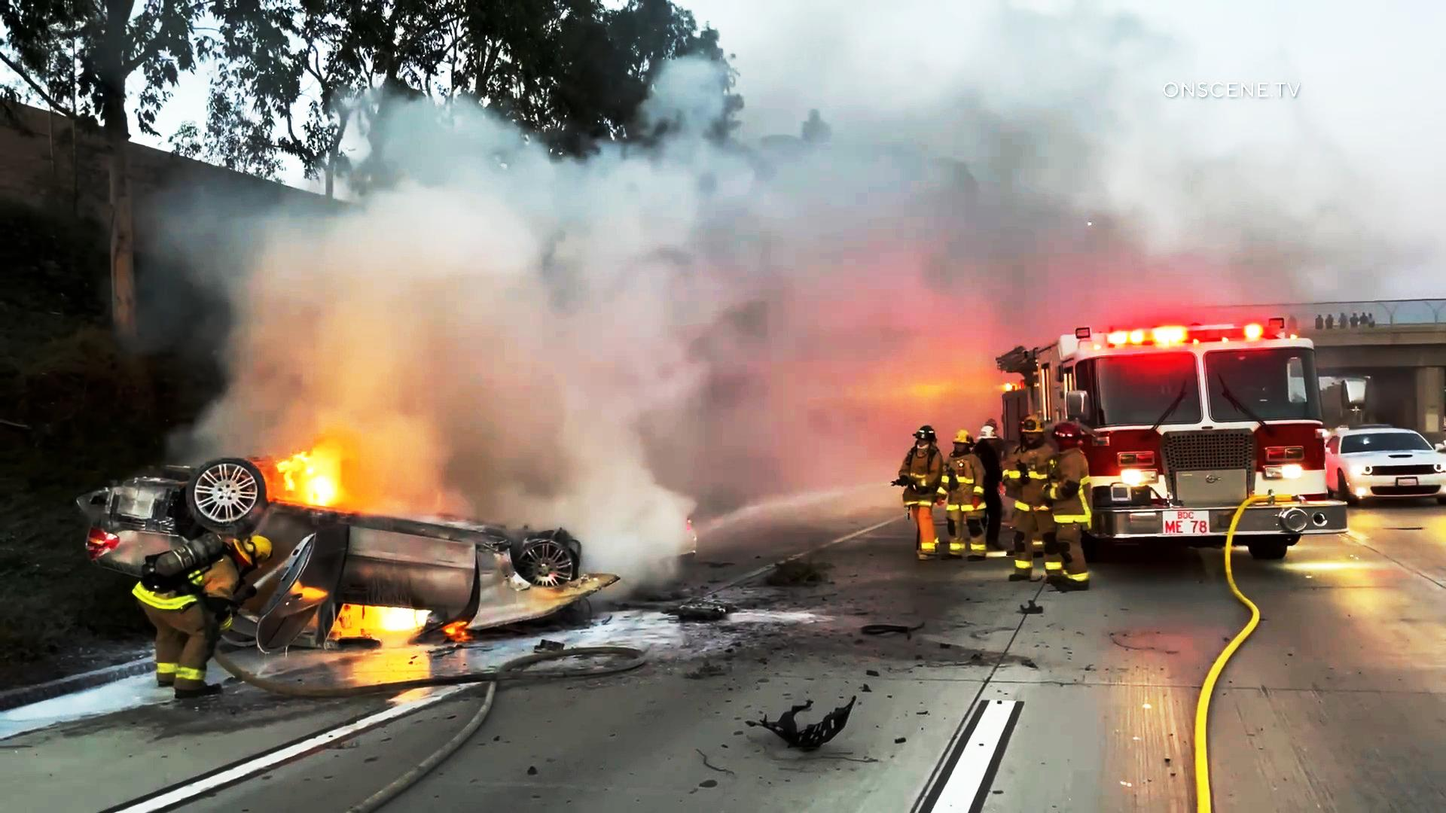fire: (278, 438, 351, 503), (311, 598, 400, 633)
smoke: (471, 169, 819, 562), (598, 40, 1074, 324), (138, 127, 477, 437), (1076, 111, 1337, 313)
